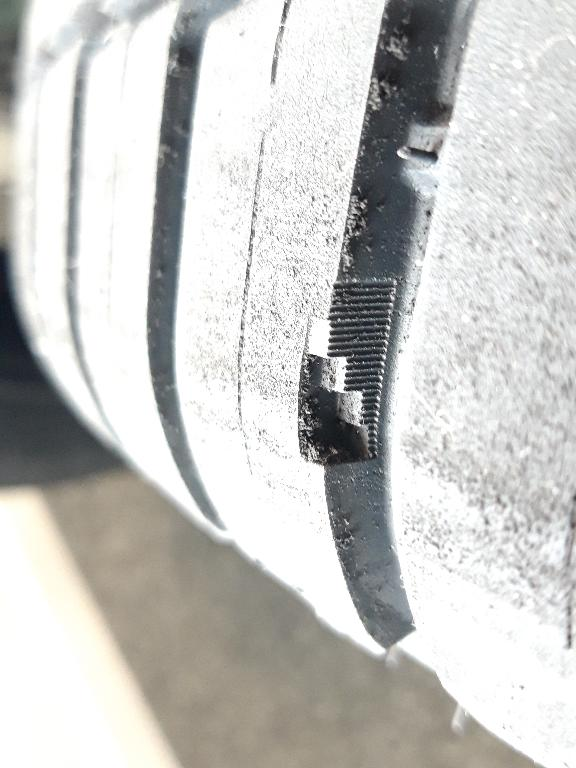temoin:75: (291, 312, 400, 475)
